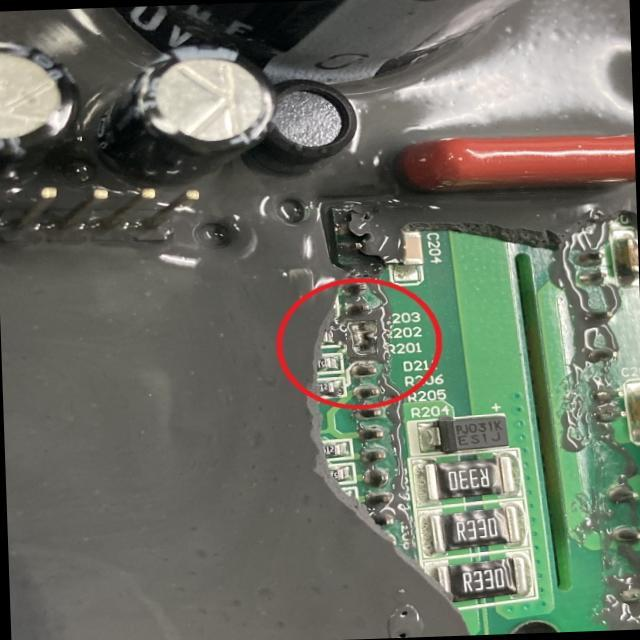Short_circuit: (348, 321, 377, 356)
